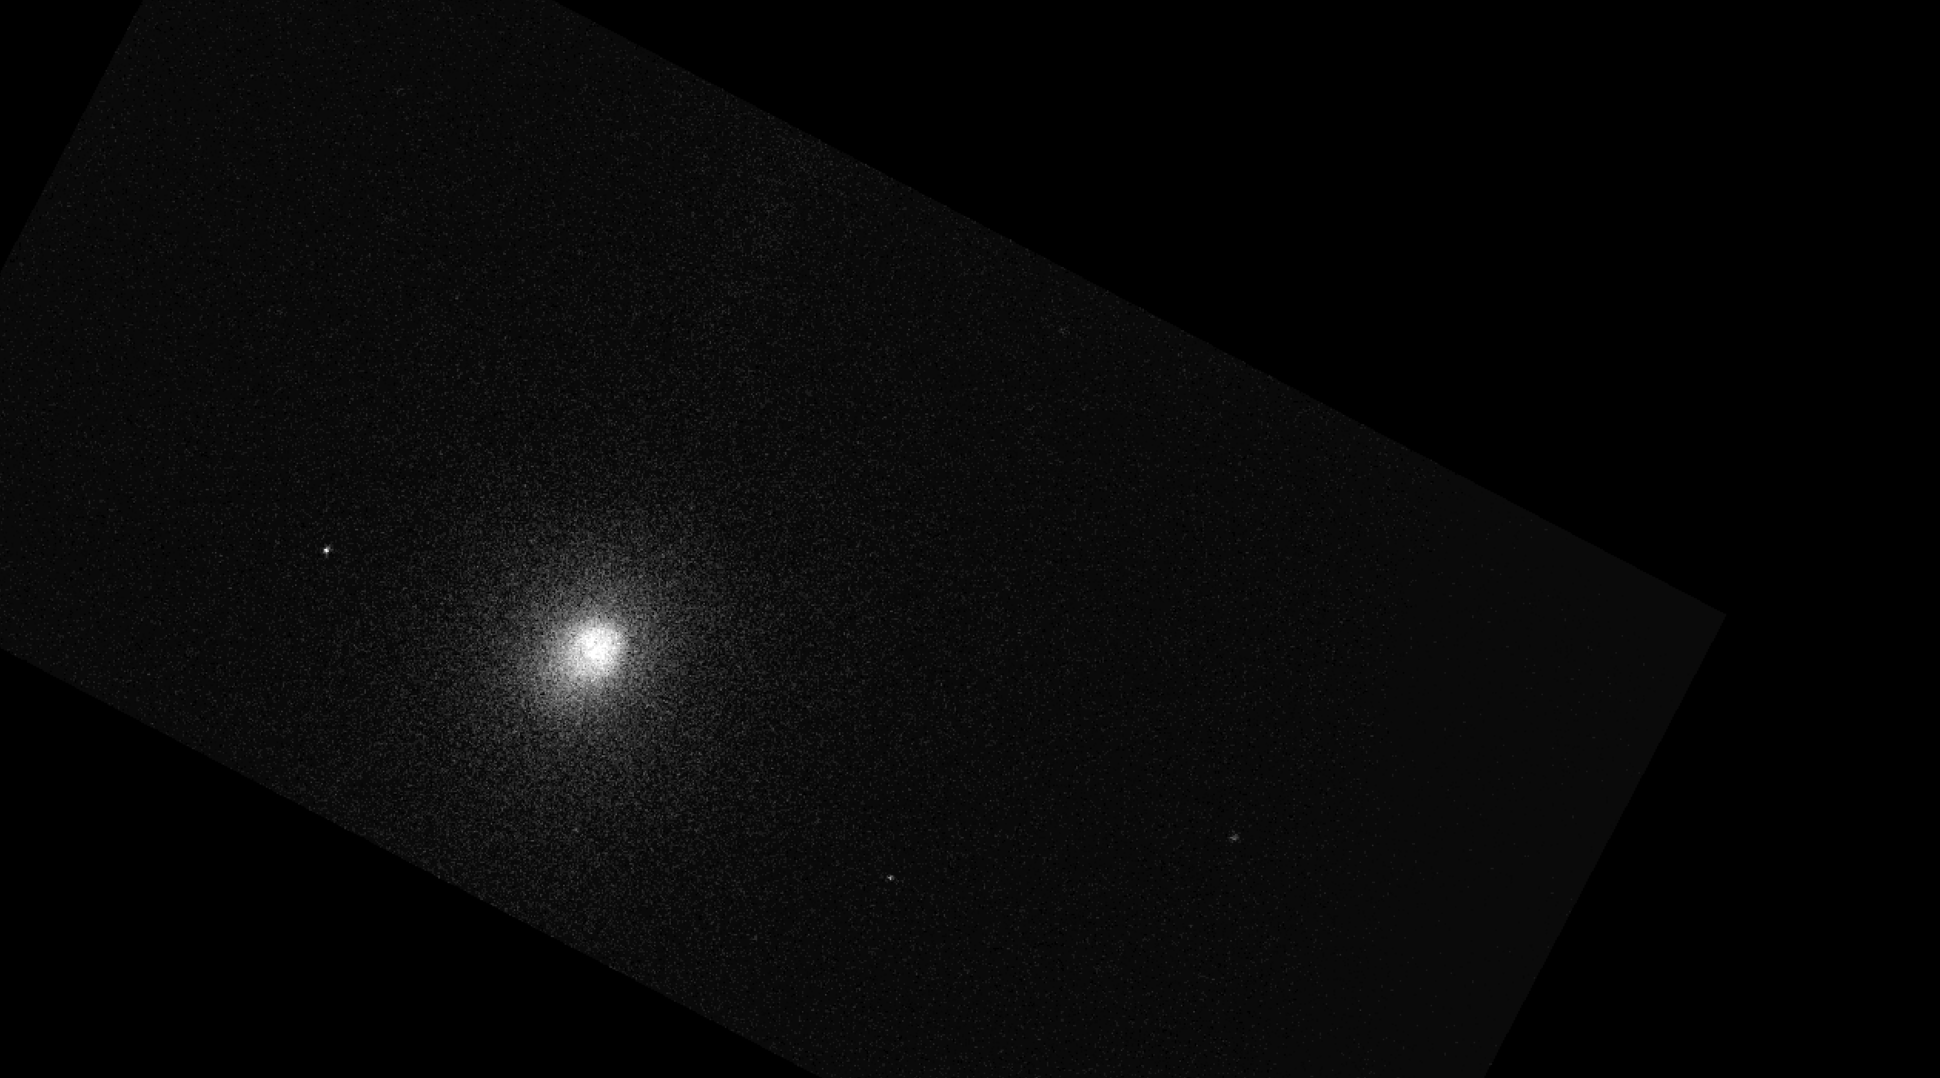Cavity: (606, 629, 622, 645), (575, 643, 594, 654)
Galaxy: (502, 563, 685, 731)
